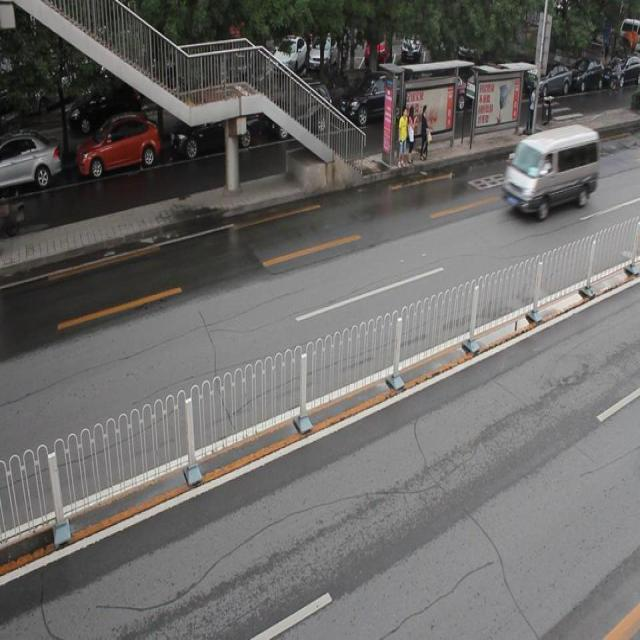car: (78, 114, 161, 180), (170, 98, 258, 160), (341, 69, 410, 129), (268, 82, 332, 140), (0, 136, 60, 195)
truck: (502, 130, 599, 213)
